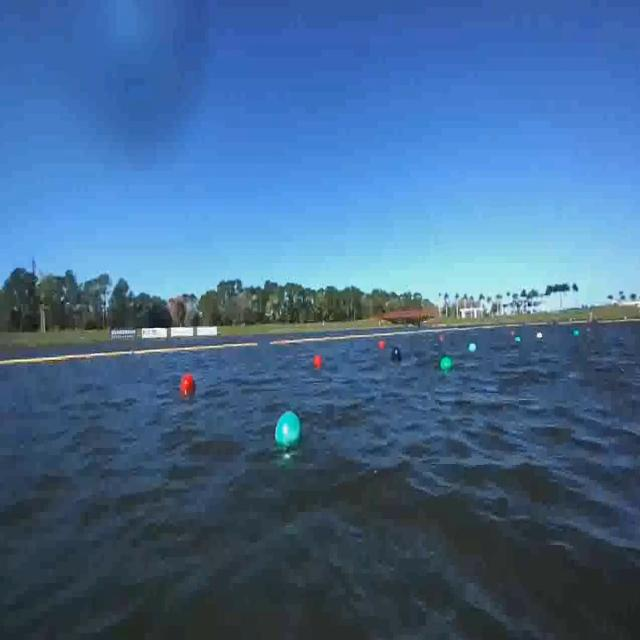black-buoy: (391, 348, 402, 362)
green-buoy: (277, 412, 302, 446), (442, 355, 454, 371)
red-buoy: (184, 371, 199, 397), (314, 355, 323, 368), (379, 341, 386, 351)
